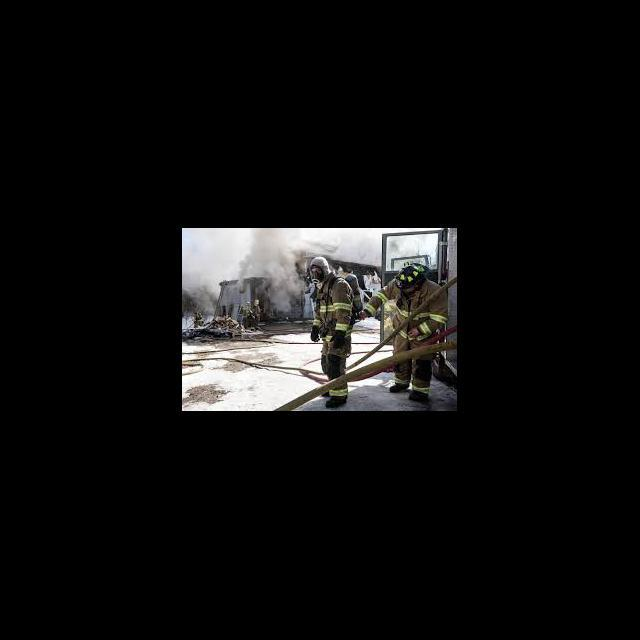Smoke: (182, 229, 304, 311)
